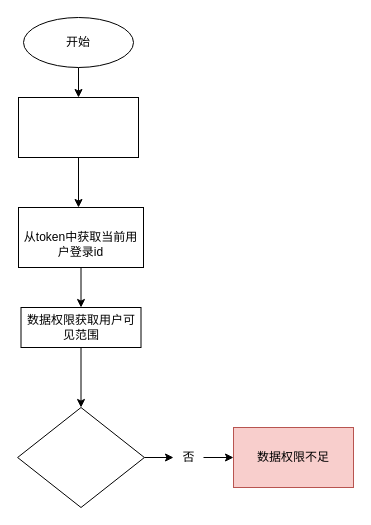
Some shapes in this 371 by 525 pixel diagram are drawn without their labels. Each missing label, with the centre of its shape:
"入参为子账号id(child_id)" belongs at (x=78, y=127).
"判断是否有访问权（childId是否在数据权限范围内）" belongs at (x=80, y=457).
